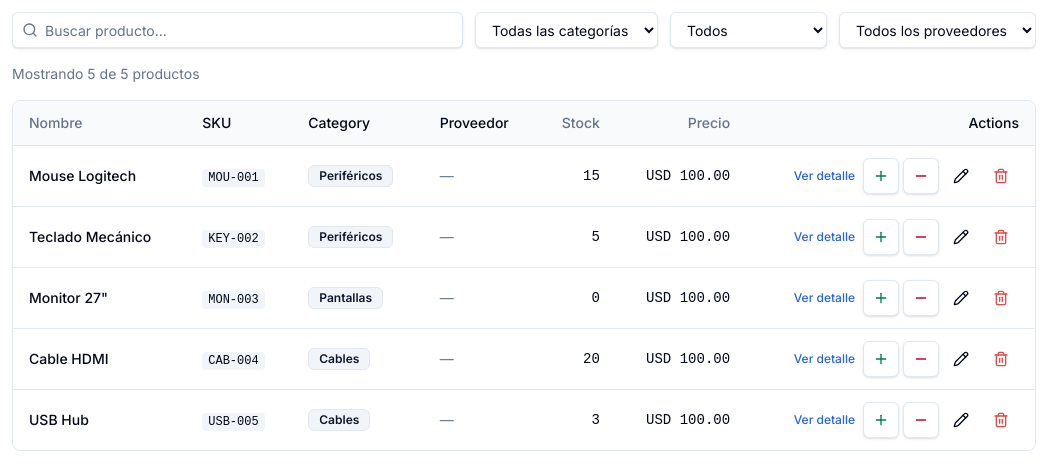
Test case: ProductsFilters › AC-5: shows a 'Mostrando N de M productos' counter that updates with filters
Expected: the text with test id "results-counter" reads "Mostrando 5 de 5 productos", [12,65,200,82]
Select "Sin stock (= 0)" in the dropdown with test id "stock-level-filter": (748, 30) [670,12,827,48]
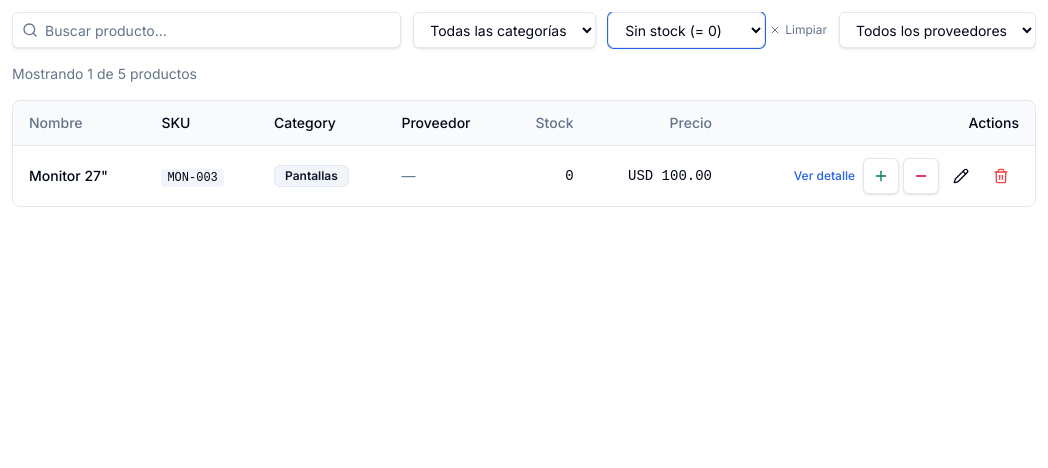
Now the text with test id "results-counter" reads "Mostrando 1 de 5 productos", box [12,65,197,82]
Select "En stock" in the dropdown with test id "stock-level-filter": (687, 30) [608,12,765,48]
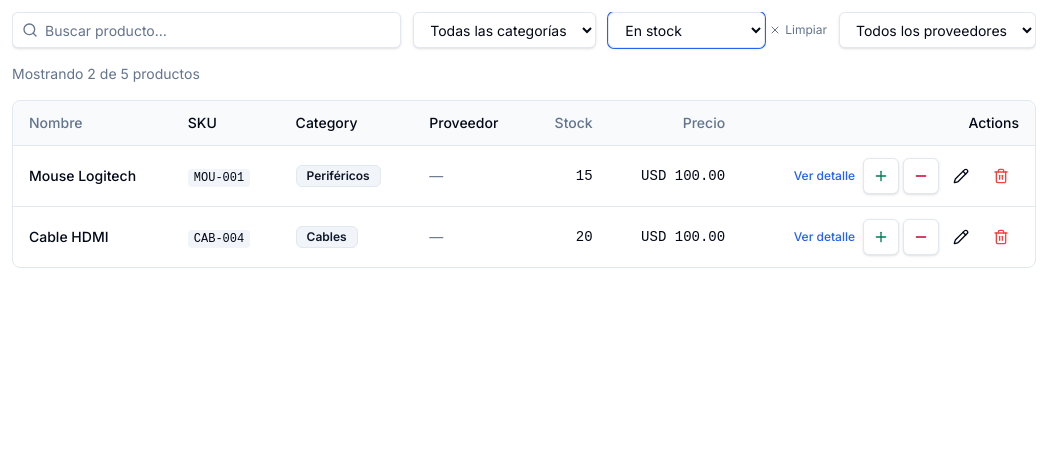
Select "Pantallas" in the dropdown with test id "category-filter": (505, 30) [413,12,596,48]
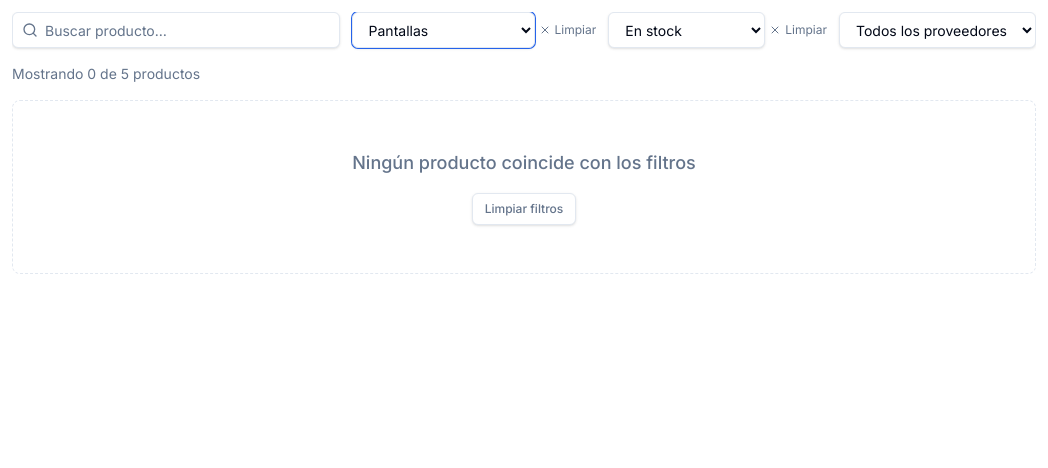
Now the text with test id "results-counter" reads "Mostrando 0 de 5 productos", box [12,65,200,82]
